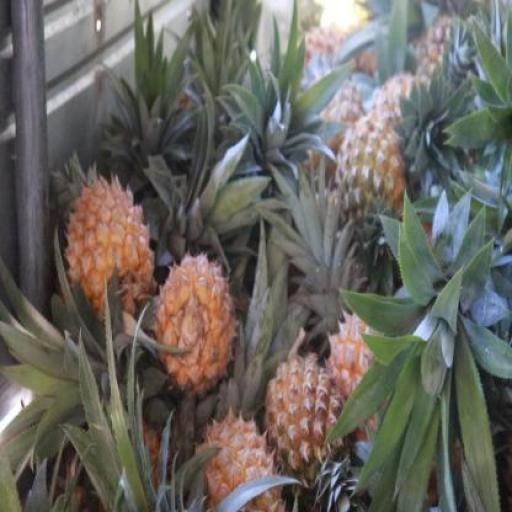Pineapple - v8 v1: (64, 175, 155, 321), (262, 352, 341, 500), (154, 256, 234, 390), (196, 411, 288, 512)
